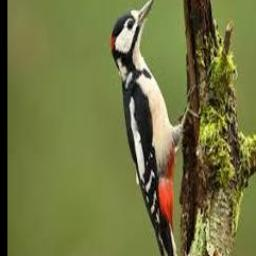Woodpecker: (112, 0, 201, 256)
